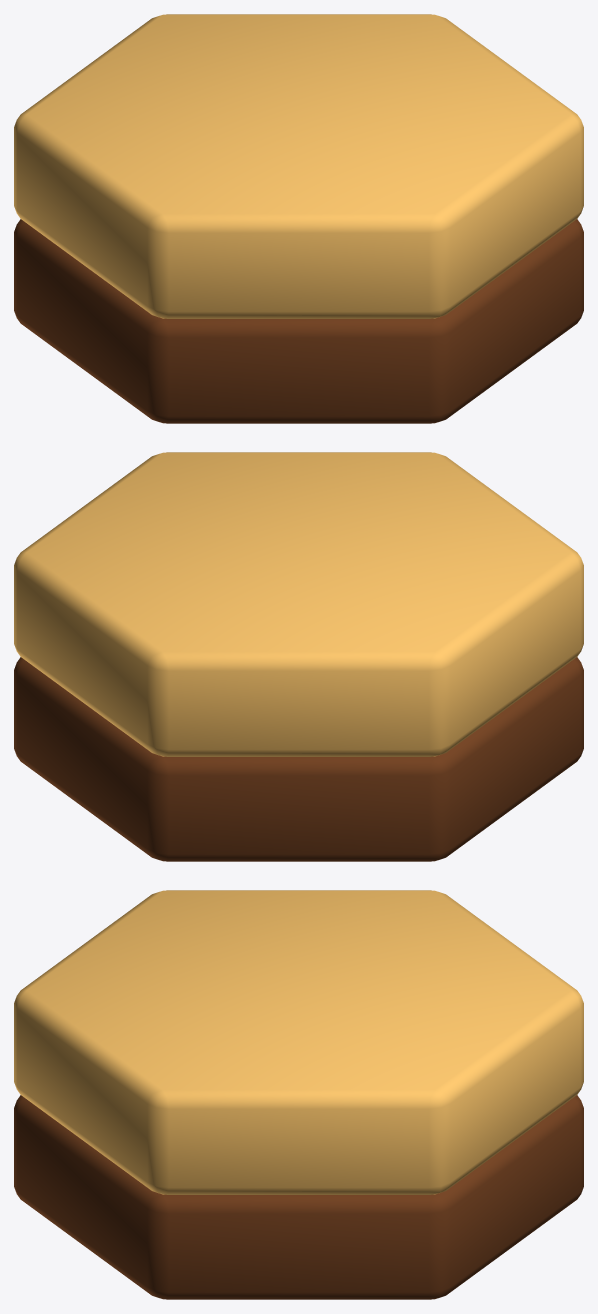
The model's file is ground_sand.glb.
3 views of the same model, one above another, from view 1: azimuth 30°, elevation 25°; view 2: azimuth 150°, elevation 25°; view 3: azimuth 270°, elevation 25° (orthographic).
Visible parts, largest first — view 1: ground_sand; view 2: ground_sand; view 3: ground_sand.
Part boxes in pixels (box(x1,y1,x2,y2)): ground_sand: box(14, 14, 583, 423); ground_sand: box(14, 452, 583, 861); ground_sand: box(14, 890, 583, 1299).
Size of the model in its own units: 6.93 by 3.2 by 7.9.
